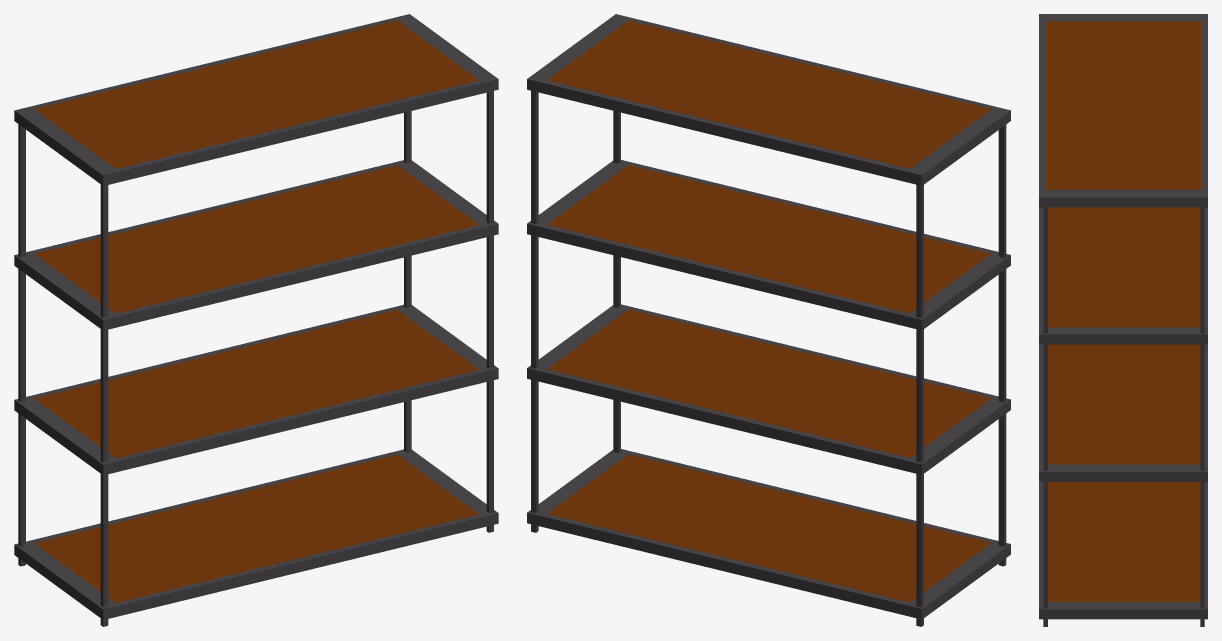
File: ShelfBGV2.fbx
The picture shows the model from 3 angles, left to right: view 1: azimuth 30°, elevation 25°; view 2: azimuth 150°, elevation 25°; view 3: azimuth 270°, elevation 25°; orthographic projection. The views are drawn at different scales.
Visible parts, largest first — view 1: Shelf3, Shelf, Shelf2, Shelf1, ShelfPole; view 2: Shelf3, Shelf2, Shelf1, Shelf, ShelfPole; view 3: Shelf3, Shelf, Shelf2, Shelf1, ShelfPole.
Boxes of the visible parts, x1,y1,x2,y2 form: Shelf3: (14, 14, 498, 185); Shelf: (14, 449, 498, 619); Shelf2: (14, 160, 498, 330); Shelf1: (14, 304, 498, 475); ShelfPole: (18, 91, 493, 626); Shelf3: (527, 14, 1010, 185); Shelf2: (527, 160, 1010, 330); Shelf1: (527, 304, 1010, 474); Shelf: (527, 449, 1010, 619); ShelfPole: (531, 90, 1006, 626); Shelf3: (1039, 14, 1207, 207); Shelf: (1039, 482, 1207, 619); Shelf2: (1039, 207, 1207, 344); Shelf1: (1039, 344, 1207, 481); ShelfPole: (1043, 207, 1204, 626).
Bounding box in the file's own units: 2.57 × 2.81 × 1.
